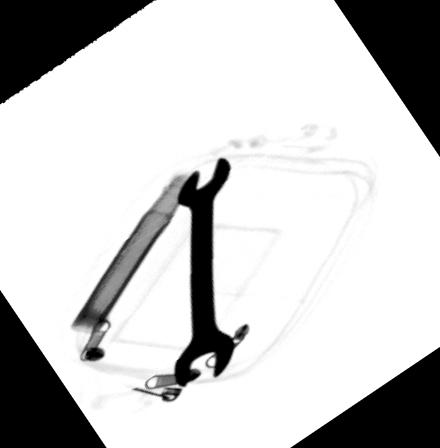Wrench: (170, 155, 236, 387)
